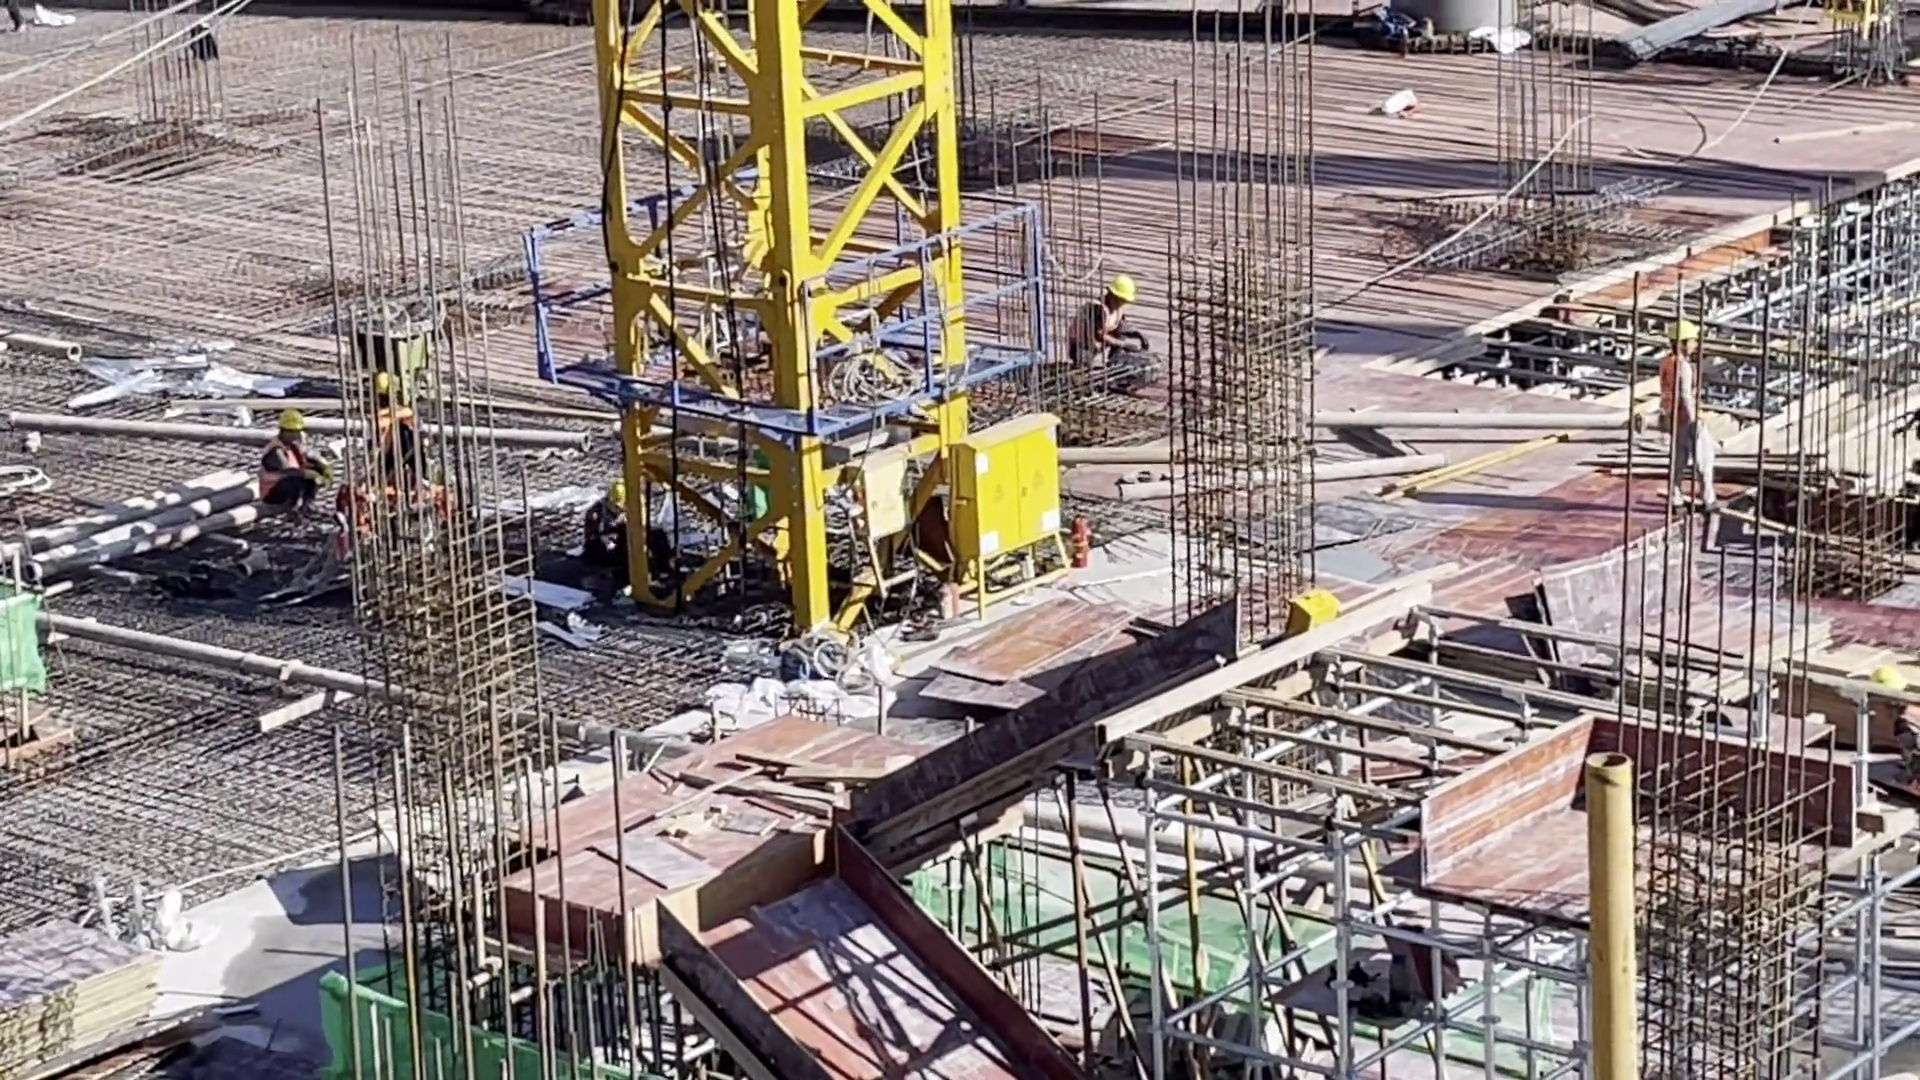helmet: (1873, 668, 1909, 700), (1106, 273, 1140, 307), (278, 408, 310, 438), (1668, 323, 1698, 348), (604, 483, 629, 510)
person: (1648, 320, 1708, 535), (259, 413, 332, 520), (1066, 278, 1145, 374), (1868, 660, 1920, 802), (582, 487, 630, 600)
vest: (1069, 306, 1133, 365), (1652, 359, 1700, 435), (258, 444, 300, 510)
